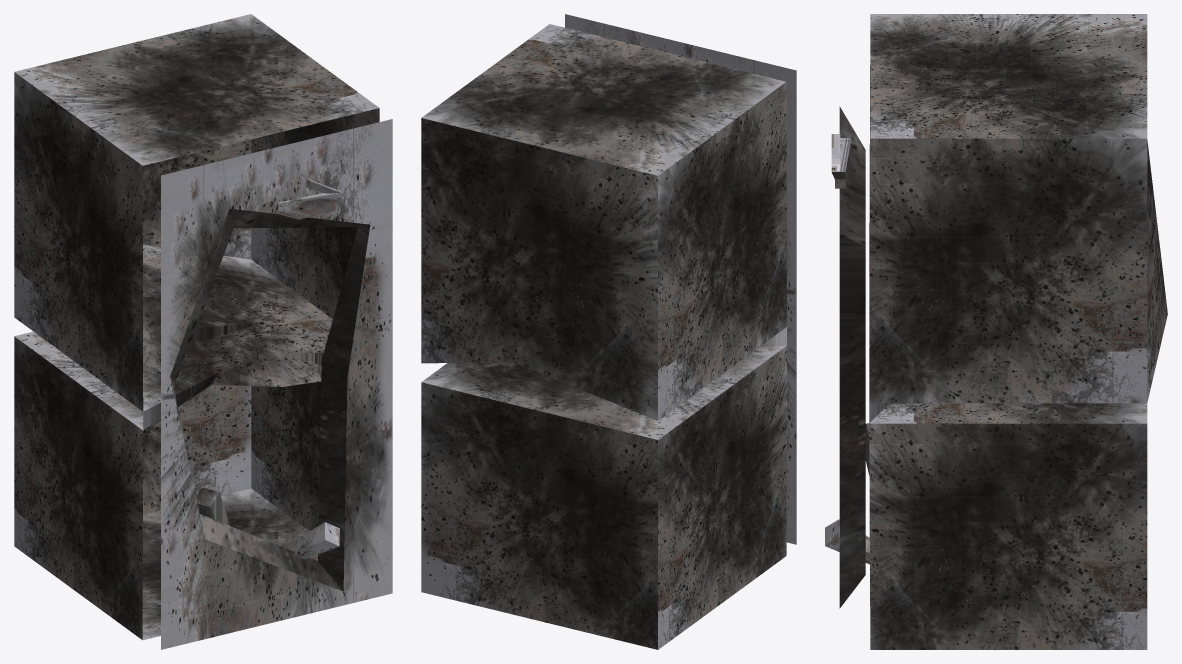
The model's file is loch_gr.obj.
3 renders of one model, left to right at view 1: azimuth 30°, elevation 25°; view 2: azimuth 150°, elevation 25°; view 3: azimuth 270°, elevation 25°, orthographic. The views are drawn at different scales.
Visible parts, largest first — view 1: polySurface191; view 2: polySurface191; view 3: polySurface191.
Part boxes in pixels (box(x1,y1,x2,y2)): polySurface191: box(14, 14, 392, 649); polySurface191: box(421, 14, 796, 649); polySurface191: box(825, 14, 1167, 649).
Bounding box in the file's own units: 1.89 × 3.61 × 2.19.
1 material, 1 textured.
